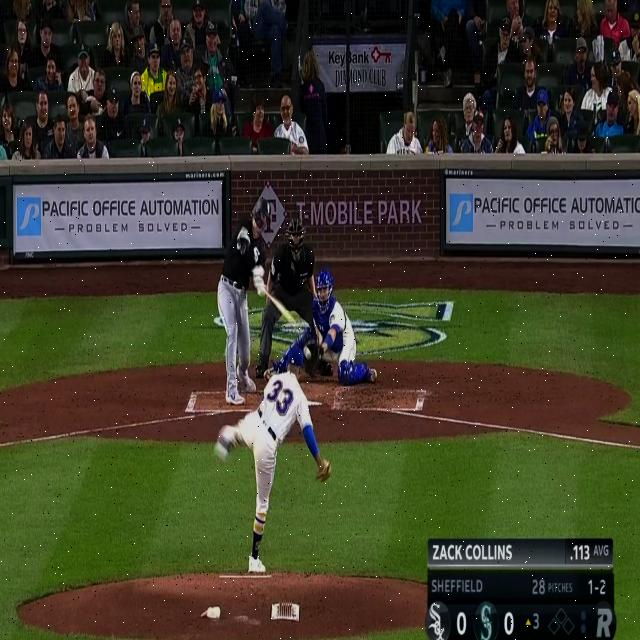baseball: (302, 345, 314, 362)
